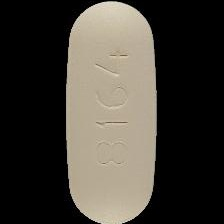61786-977: (0, 0, 224, 224)
